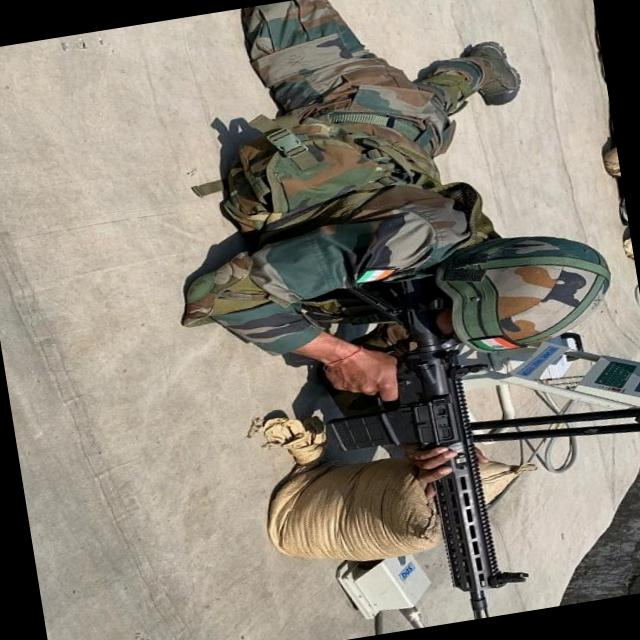long weapon: (312, 310, 550, 636)
